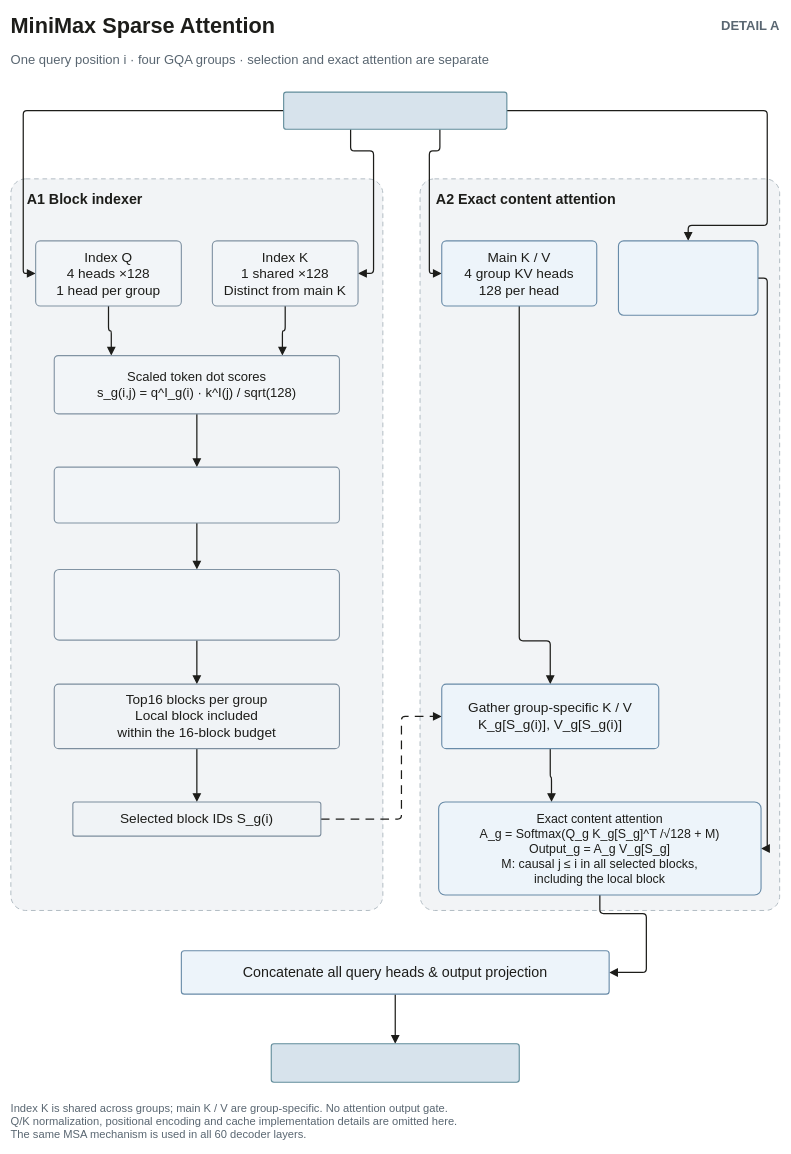
This 791x1154 diagram has some shape labels left out. The shapes that lost their labels are listed below. From the top down, each one's centre as x and y in pixels, then its label:
the point at 395,110: u = Norm(x)
the point at 688,278: Main Q 64 Q heads 4 groups ×16 Q 128 per head
the point at 196,494: Causal index eligibility: j ≤ i Fully future blocks score −∞
the point at 196,604: Block max: 128 tokens b_g(i,b) = max s_g(i,j) for j in block b and j ≤ i
the point at 394,1062: Attention output
